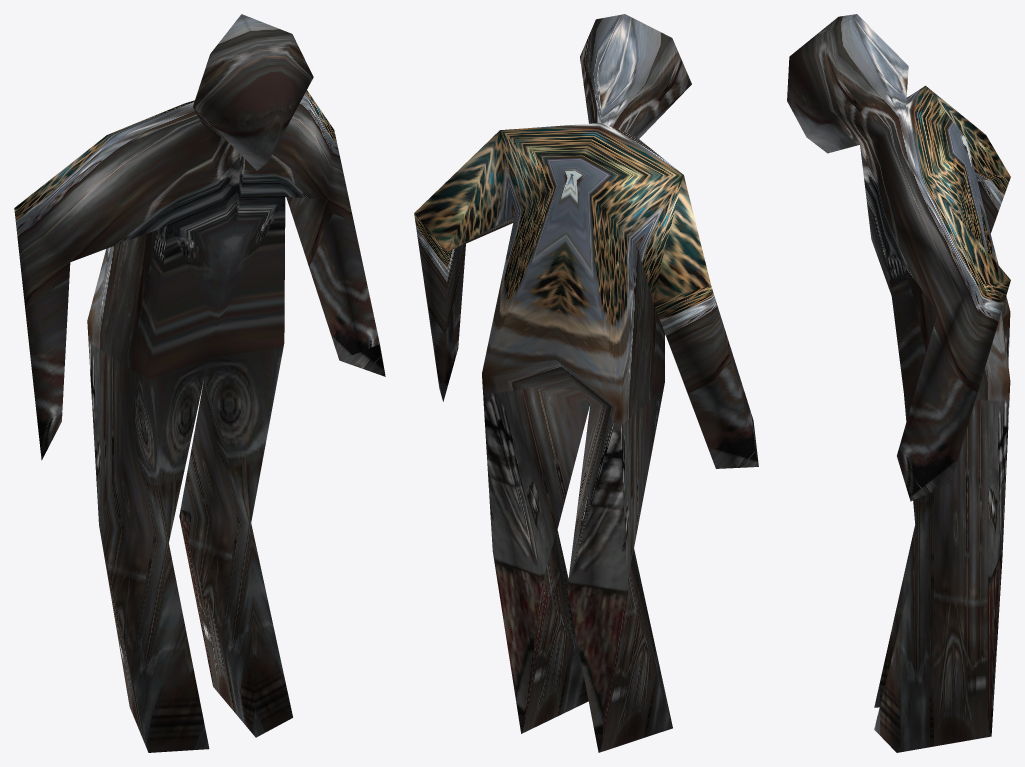
The model's file is poi_4lom_powerdown_l3.fbx.
3 renders of one model, left to right at view 1: azimuth 30°, elevation 25°; view 2: azimuth 150°, elevation 25°; view 3: azimuth 270°, elevation 25°, orthographic. The views are drawn at different scales.
Parts seen in each view (by area): view 1: mesh_node; view 2: mesh_node; view 3: mesh_node.
Boxes of the visible parts, x1=… form: mesh_node: x1=14, y1=14, x2=385, y2=752; mesh_node: x1=414, y1=14, x2=758, y2=752; mesh_node: x1=787, y1=14, x2=1010, y2=752.
Size of the model in its own units: 0.8805 by 1.8 by 0.5185.
1 material, 1 textured.
